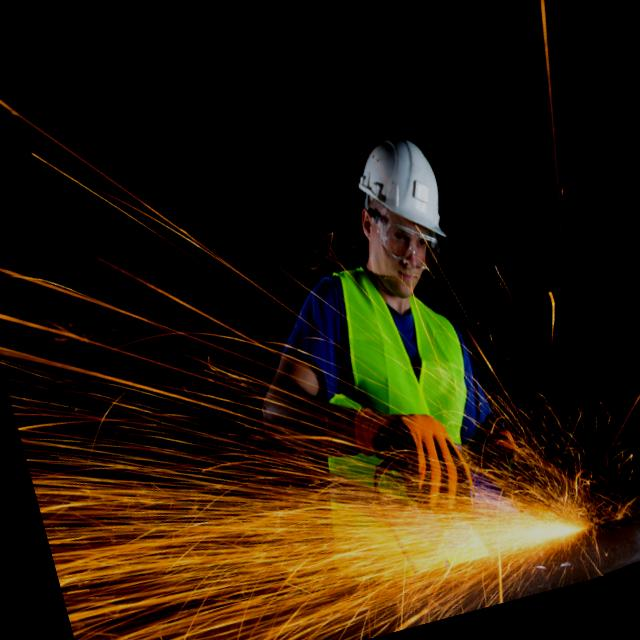goggles: (366, 211, 448, 278)
helmet: (335, 107, 458, 246)
vest: (308, 266, 500, 475)
